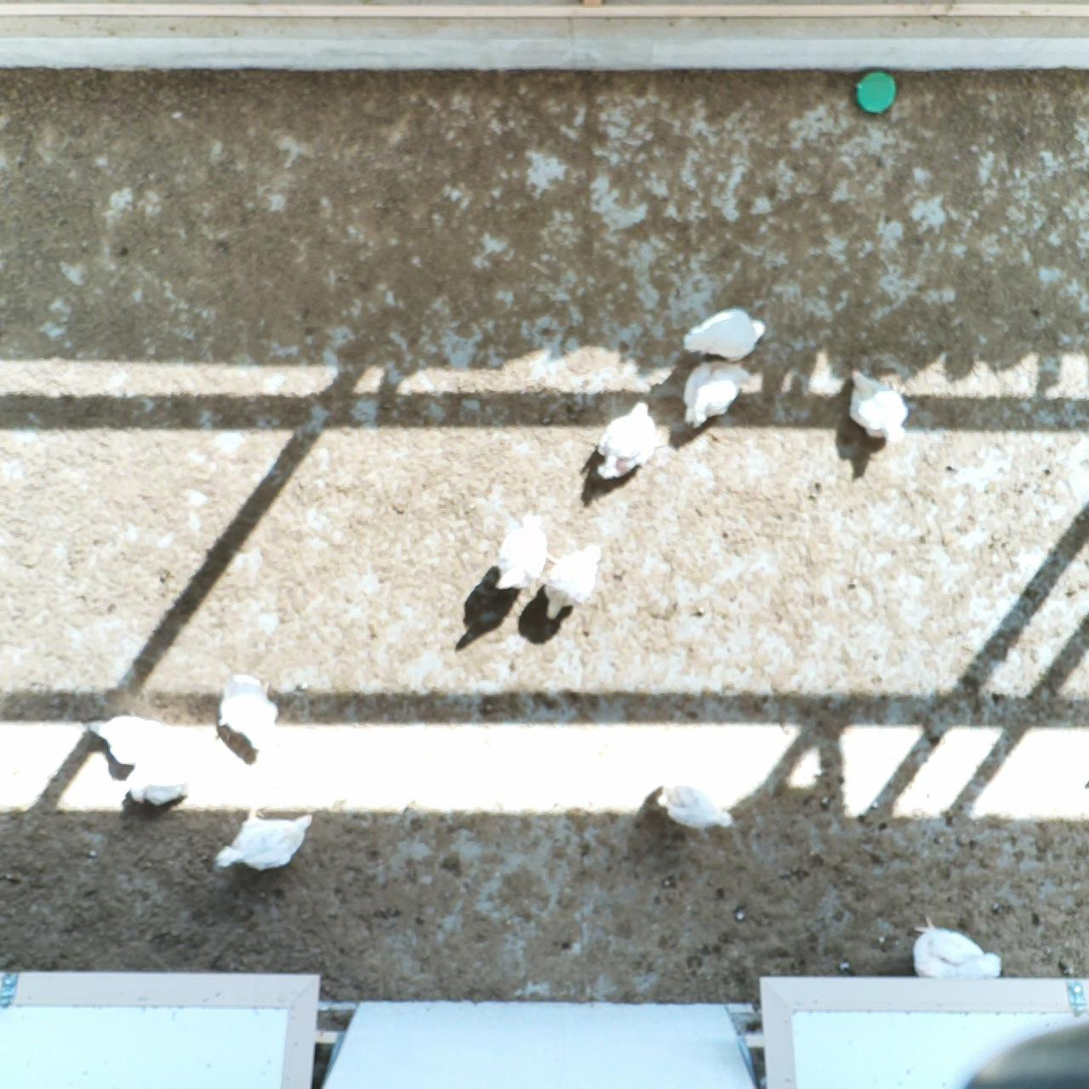chicken: (910, 912, 1004, 995), (214, 807, 316, 874), (215, 669, 282, 757), (88, 711, 182, 772), (536, 540, 607, 619), (841, 365, 908, 445), (683, 363, 764, 429), (595, 399, 657, 479), (490, 512, 550, 594), (682, 310, 769, 361), (654, 780, 734, 833), (120, 758, 196, 810)
